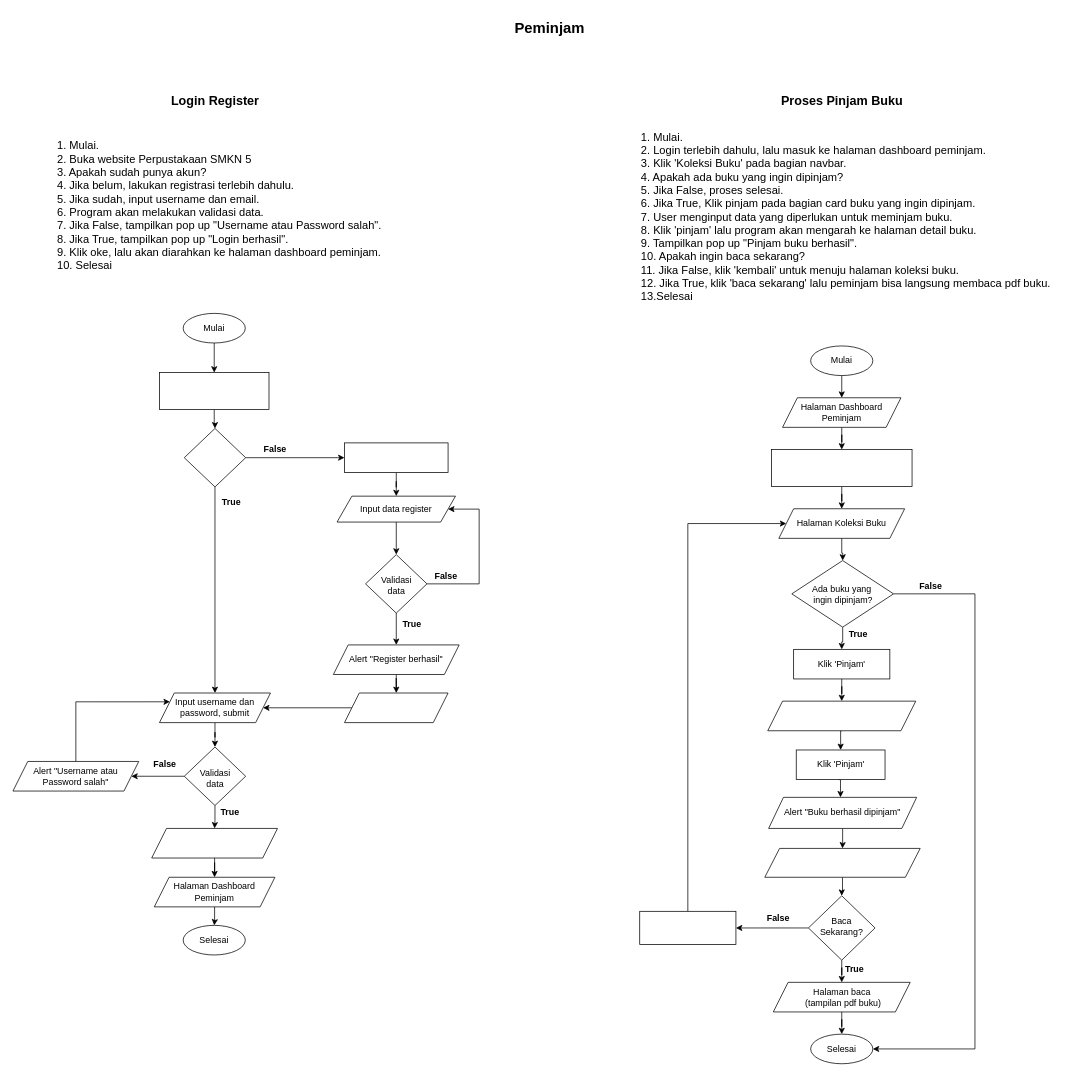
Some shapes in this 1082 by 1077 pixel diagram are drawn without their labels. Here are the shapes that lost their labels. From the top down, the centre of each, then its label:
point (214, 391): Buka website Perpustakaan Digital
point (215, 457): Punya akun?
point (396, 457): Klik buat akun
point (841, 468): Kllik 'Koleksi Buku' pada bagian navbar
point (396, 707): Halaman Login
point (841, 715): Input data untuk pinjam buku
point (214, 843): Alert "Login berhasil"
point (842, 862): Halaman Detail Buku
point (687, 928): Klik Kembali
